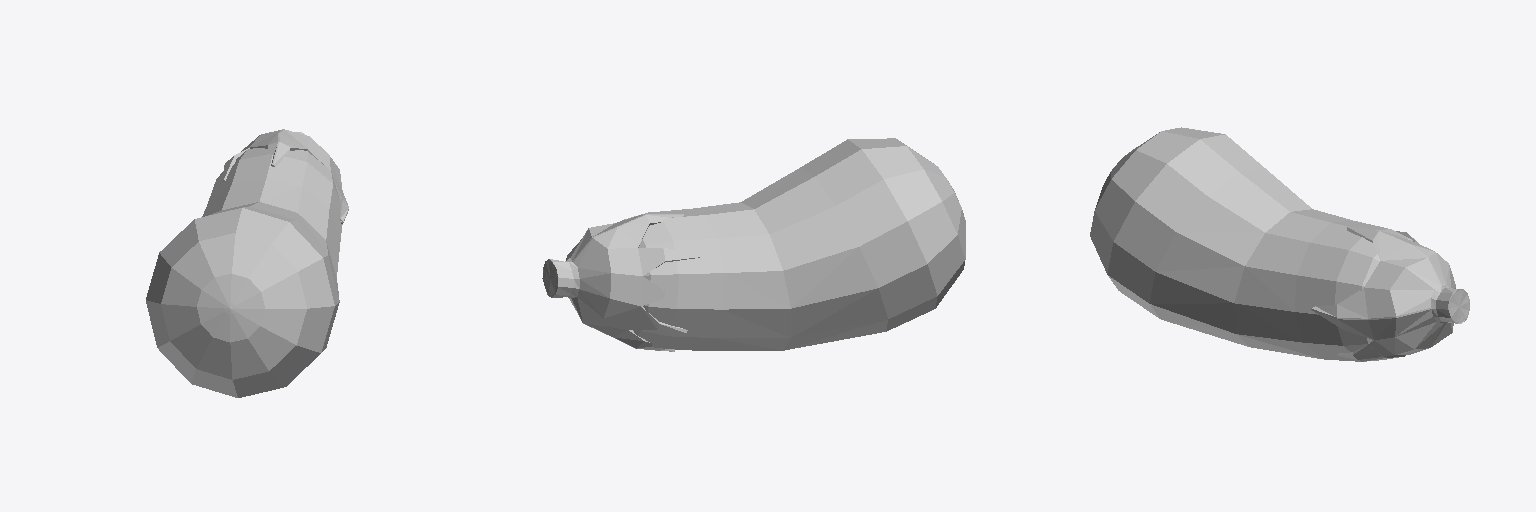
File: eggplant.obj
3 renders of one model, left to right at view 1: azimuth 30°, elevation 25°; view 2: azimuth 150°, elevation 25°; view 3: azimuth 270°, elevation 25°, orthographic.
Visible parts, largest first — view 1: Eggplant_0; view 2: Eggplant_0; view 3: Eggplant_0.
Part boxes in pixels (x1,y1,x2,y2): Eggplant_0: (146, 129, 348, 397); Eggplant_0: (542, 138, 965, 351); Eggplant_0: (1090, 127, 1469, 361).
Size of the model in its own units: 5.14 by 3.13 by 5.95.